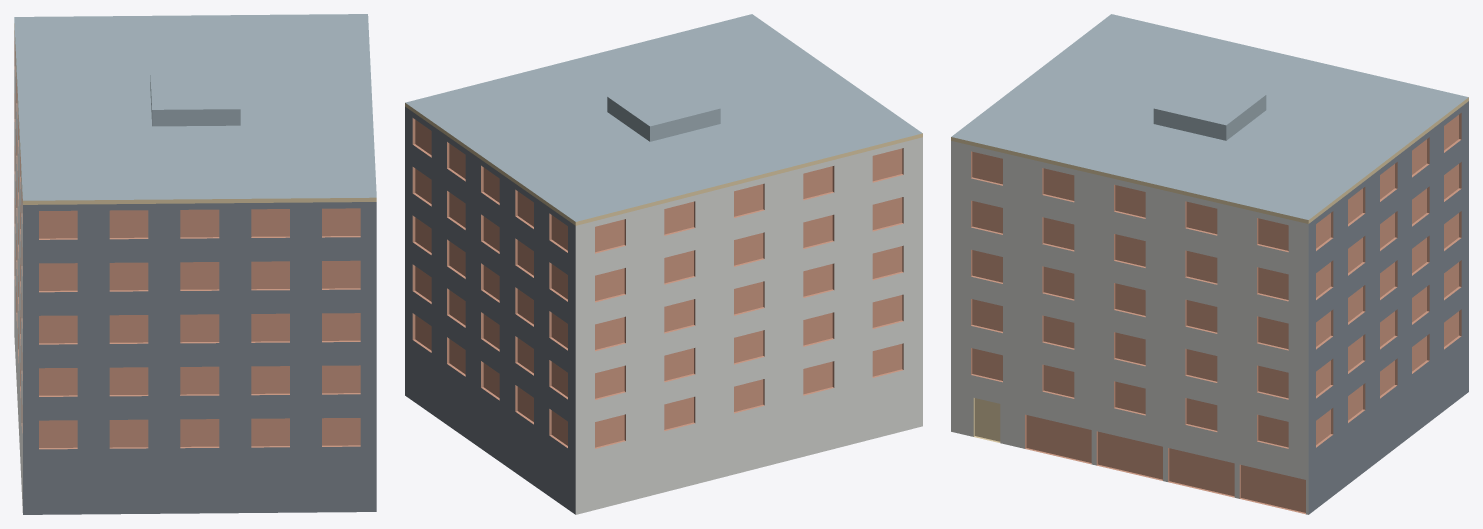
The model's file is doitt-147902__lod_0.glb.
3 renders of one model, left to right at view 1: azimuth 30°, elevation 25°; view 2: azimuth 150°, elevation 25°; view 3: azimuth 270°, elevation 25°, orthographic. The views are drawn at different scales.
Bounding box in the file's own units: 34.21 × 24.02 × 36.31.
